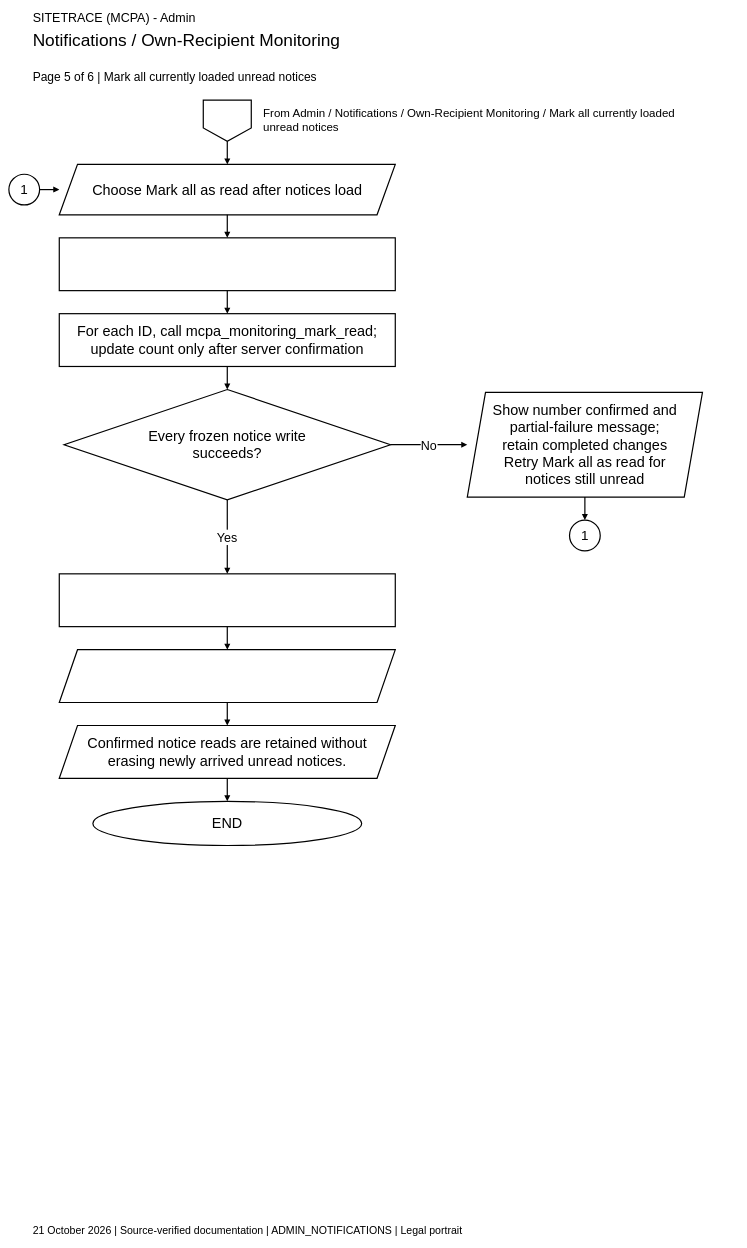
Image size: 747x1248. Some labels were removed from this diagram. Each missing label, with the box of its shape:
Freeze the IDs of currently loaded unread notices; disable overlapping writes: (58, 237, 396, 291)
FS: (202, 99, 252, 142)
Re-read monitoring snapshot after all writes, including a partial failure: (58, 573, 396, 627)
Show reconciled read count; new notices received during the batch remain unread: (58, 649, 396, 703)
